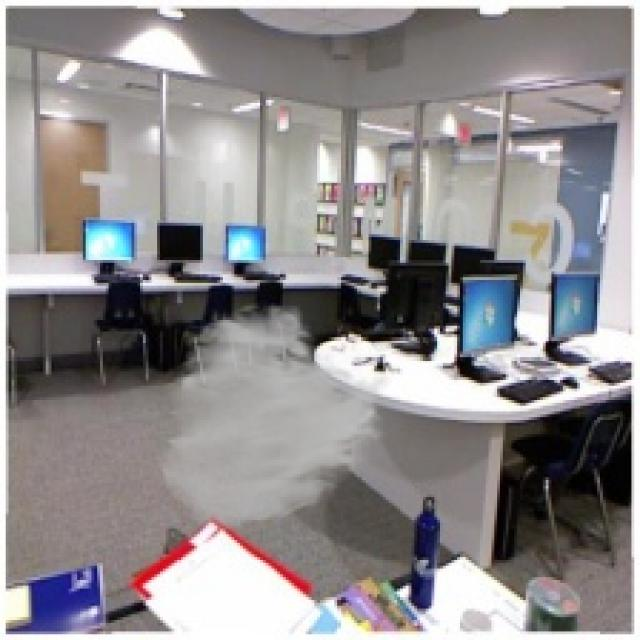smoke: (154, 300, 394, 531)
